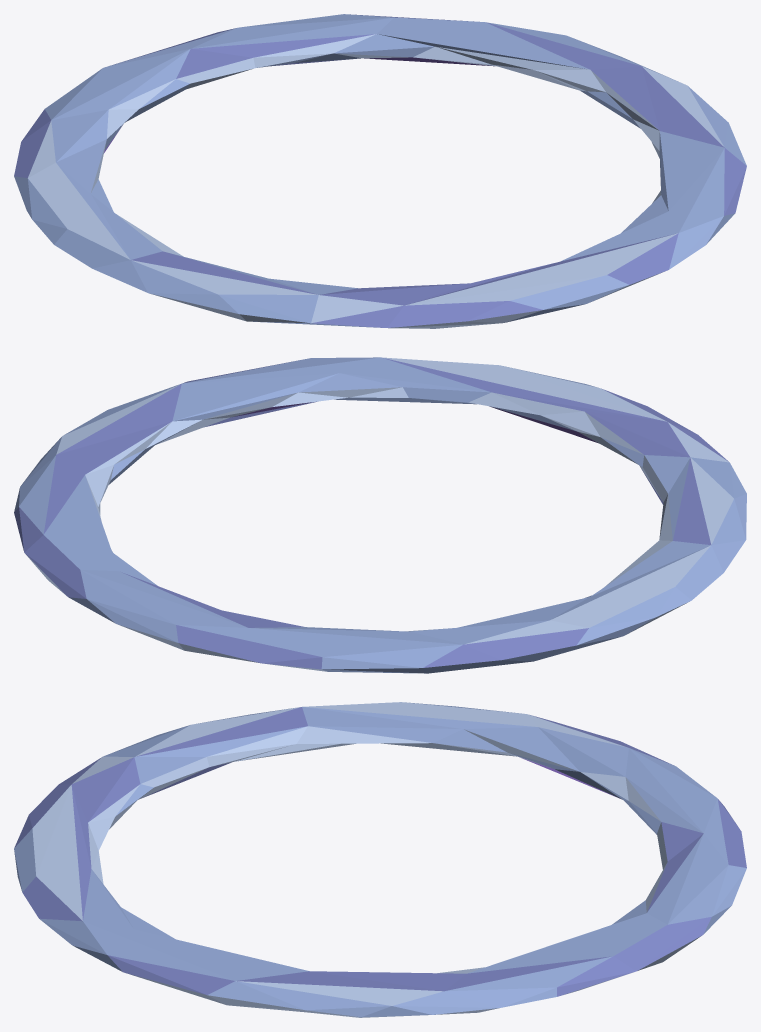
File: ring.fbx
3 views of the same model, one above another, from view 1: azimuth 30°, elevation 25°; view 2: azimuth 150°, elevation 25°; view 3: azimuth 270°, elevation 25° (orthographic).
Parts seen in each view (by area): view 1: Ring; view 2: Ring; view 3: Ring.
Boxes of the visible parts, x1,y1,x2,y2 form: Ring: (14,14,746,328); Ring: (14,357,746,673); Ring: (14,702,746,1017).
Size of the model in its own units: 1925 by 73.86 by 1924.
Materials: 1 (1 with a texture image).
